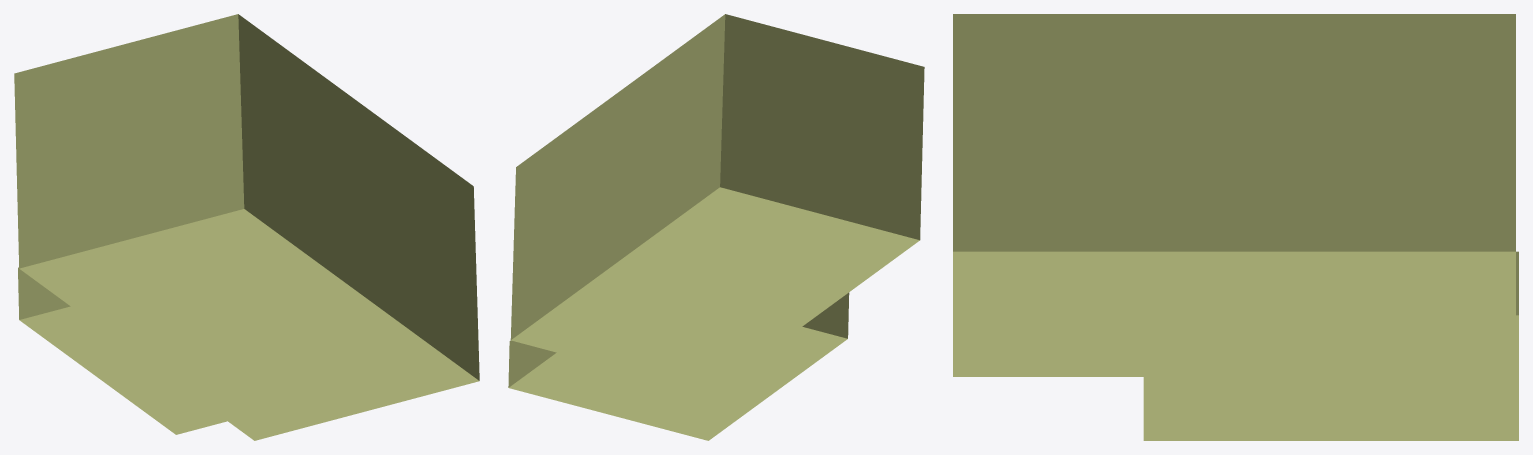
3 renders of one model, left to right at view 1: azimuth 30°, elevation 25°; view 2: azimuth 150°, elevation 25°; view 3: azimuth 270°, elevation 25°, orthographic. The views are drawn at different scales.
Parts seen in each view (by area): view 1: 0_2_1_0_0_0_0_0_1_3_0; view 2: 0_2_1_0_0_0_0_0_1_3_0; view 3: 0_2_1_0_0_0_0_0_1_3_0.
Boxes of the visible parts, x1,y1,x2,y2 form: 0_2_1_0_0_0_0_0_1_3_0: (14, 14, 479, 440); 0_2_1_0_0_0_0_0_1_3_0: (508, 14, 924, 440); 0_2_1_0_0_0_0_0_1_3_0: (953, 14, 1518, 440).
Bounding box in the file's own units: 5.11 × 5.35 × 9.05.
